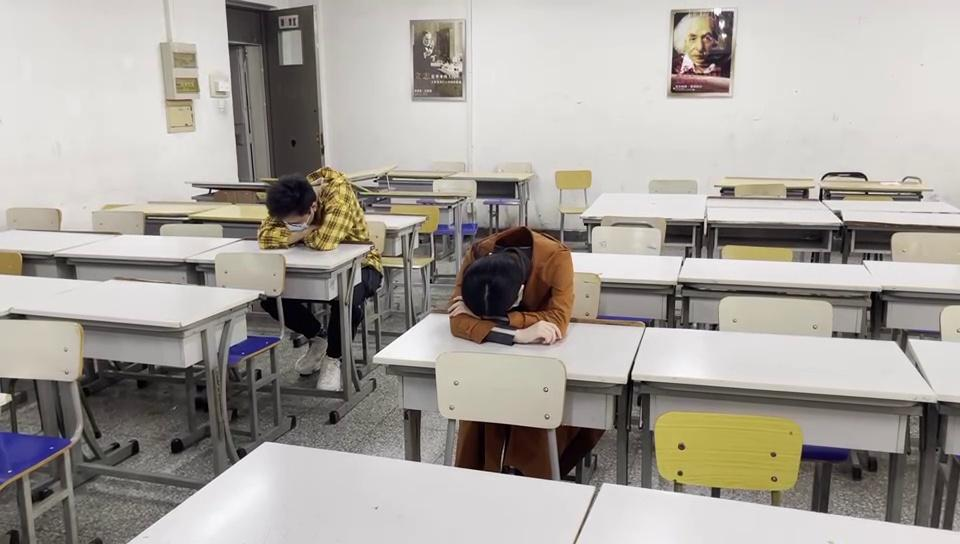sleep: (448, 228, 571, 344), (256, 164, 365, 249)
